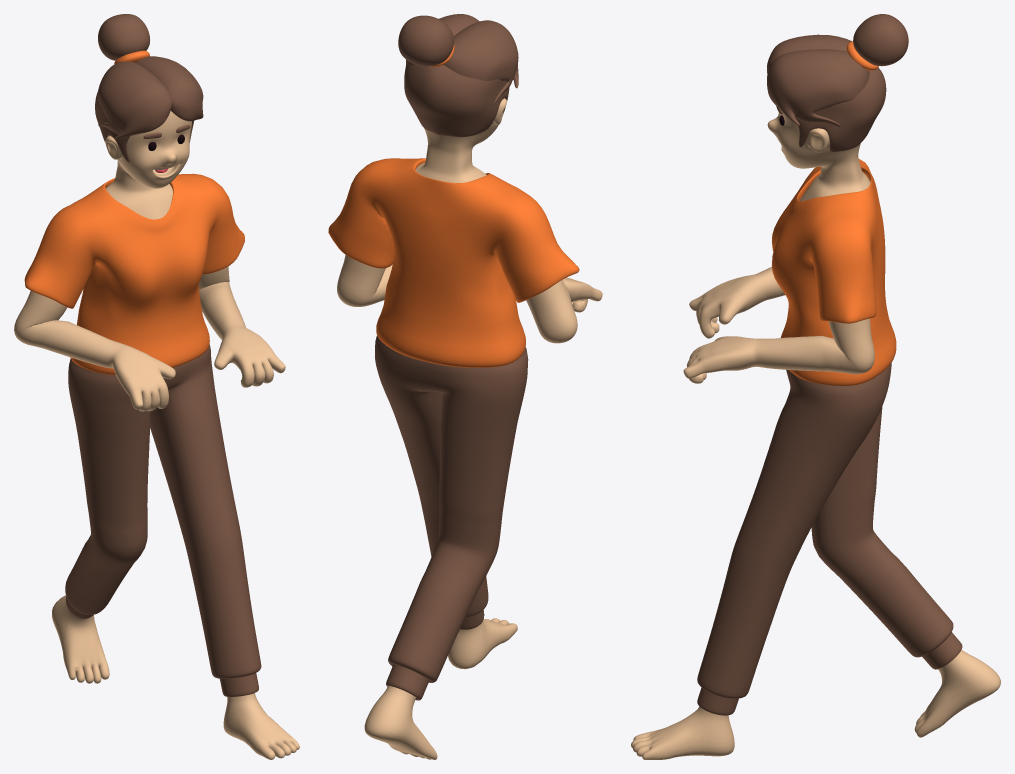
File: figurePush.glb
The picture shows the model from 3 angles, left to right: view 1: azimuth 30°, elevation 25°; view 2: azimuth 150°, elevation 25°; view 3: azimuth 270°, elevation 25°; orthographic projection. The views are drawn at different scales.
Visible parts, largest first — view 1: Cube.007, Cube.009, Cube.008; view 2: Cube.007, Cube.009, Cube.008; view 3: Cube.007, Cube.009, Cube.008.
Boxes of the visible parts, left/top/right/bottom form: Cube.007: left=14, top=266, right=299, bottom=759; Cube.009: left=24, top=173, right=244, bottom=374; Cube.008: left=95, top=14, right=203, bottom=219; Cube.007: left=337, top=255, right=602, bottom=759; Cube.009: left=328, top=158, right=579, bottom=367; Cube.008: left=398, top=14, right=518, bottom=182; Cube.007: left=631, top=267, right=1000, bottom=759; Cube.009: left=771, top=159, right=896, bottom=385; Cube.008: left=767, top=14, right=908, bottom=201.
Bounding box in the file's own units: 1.2 × 3.38 × 1.57.
